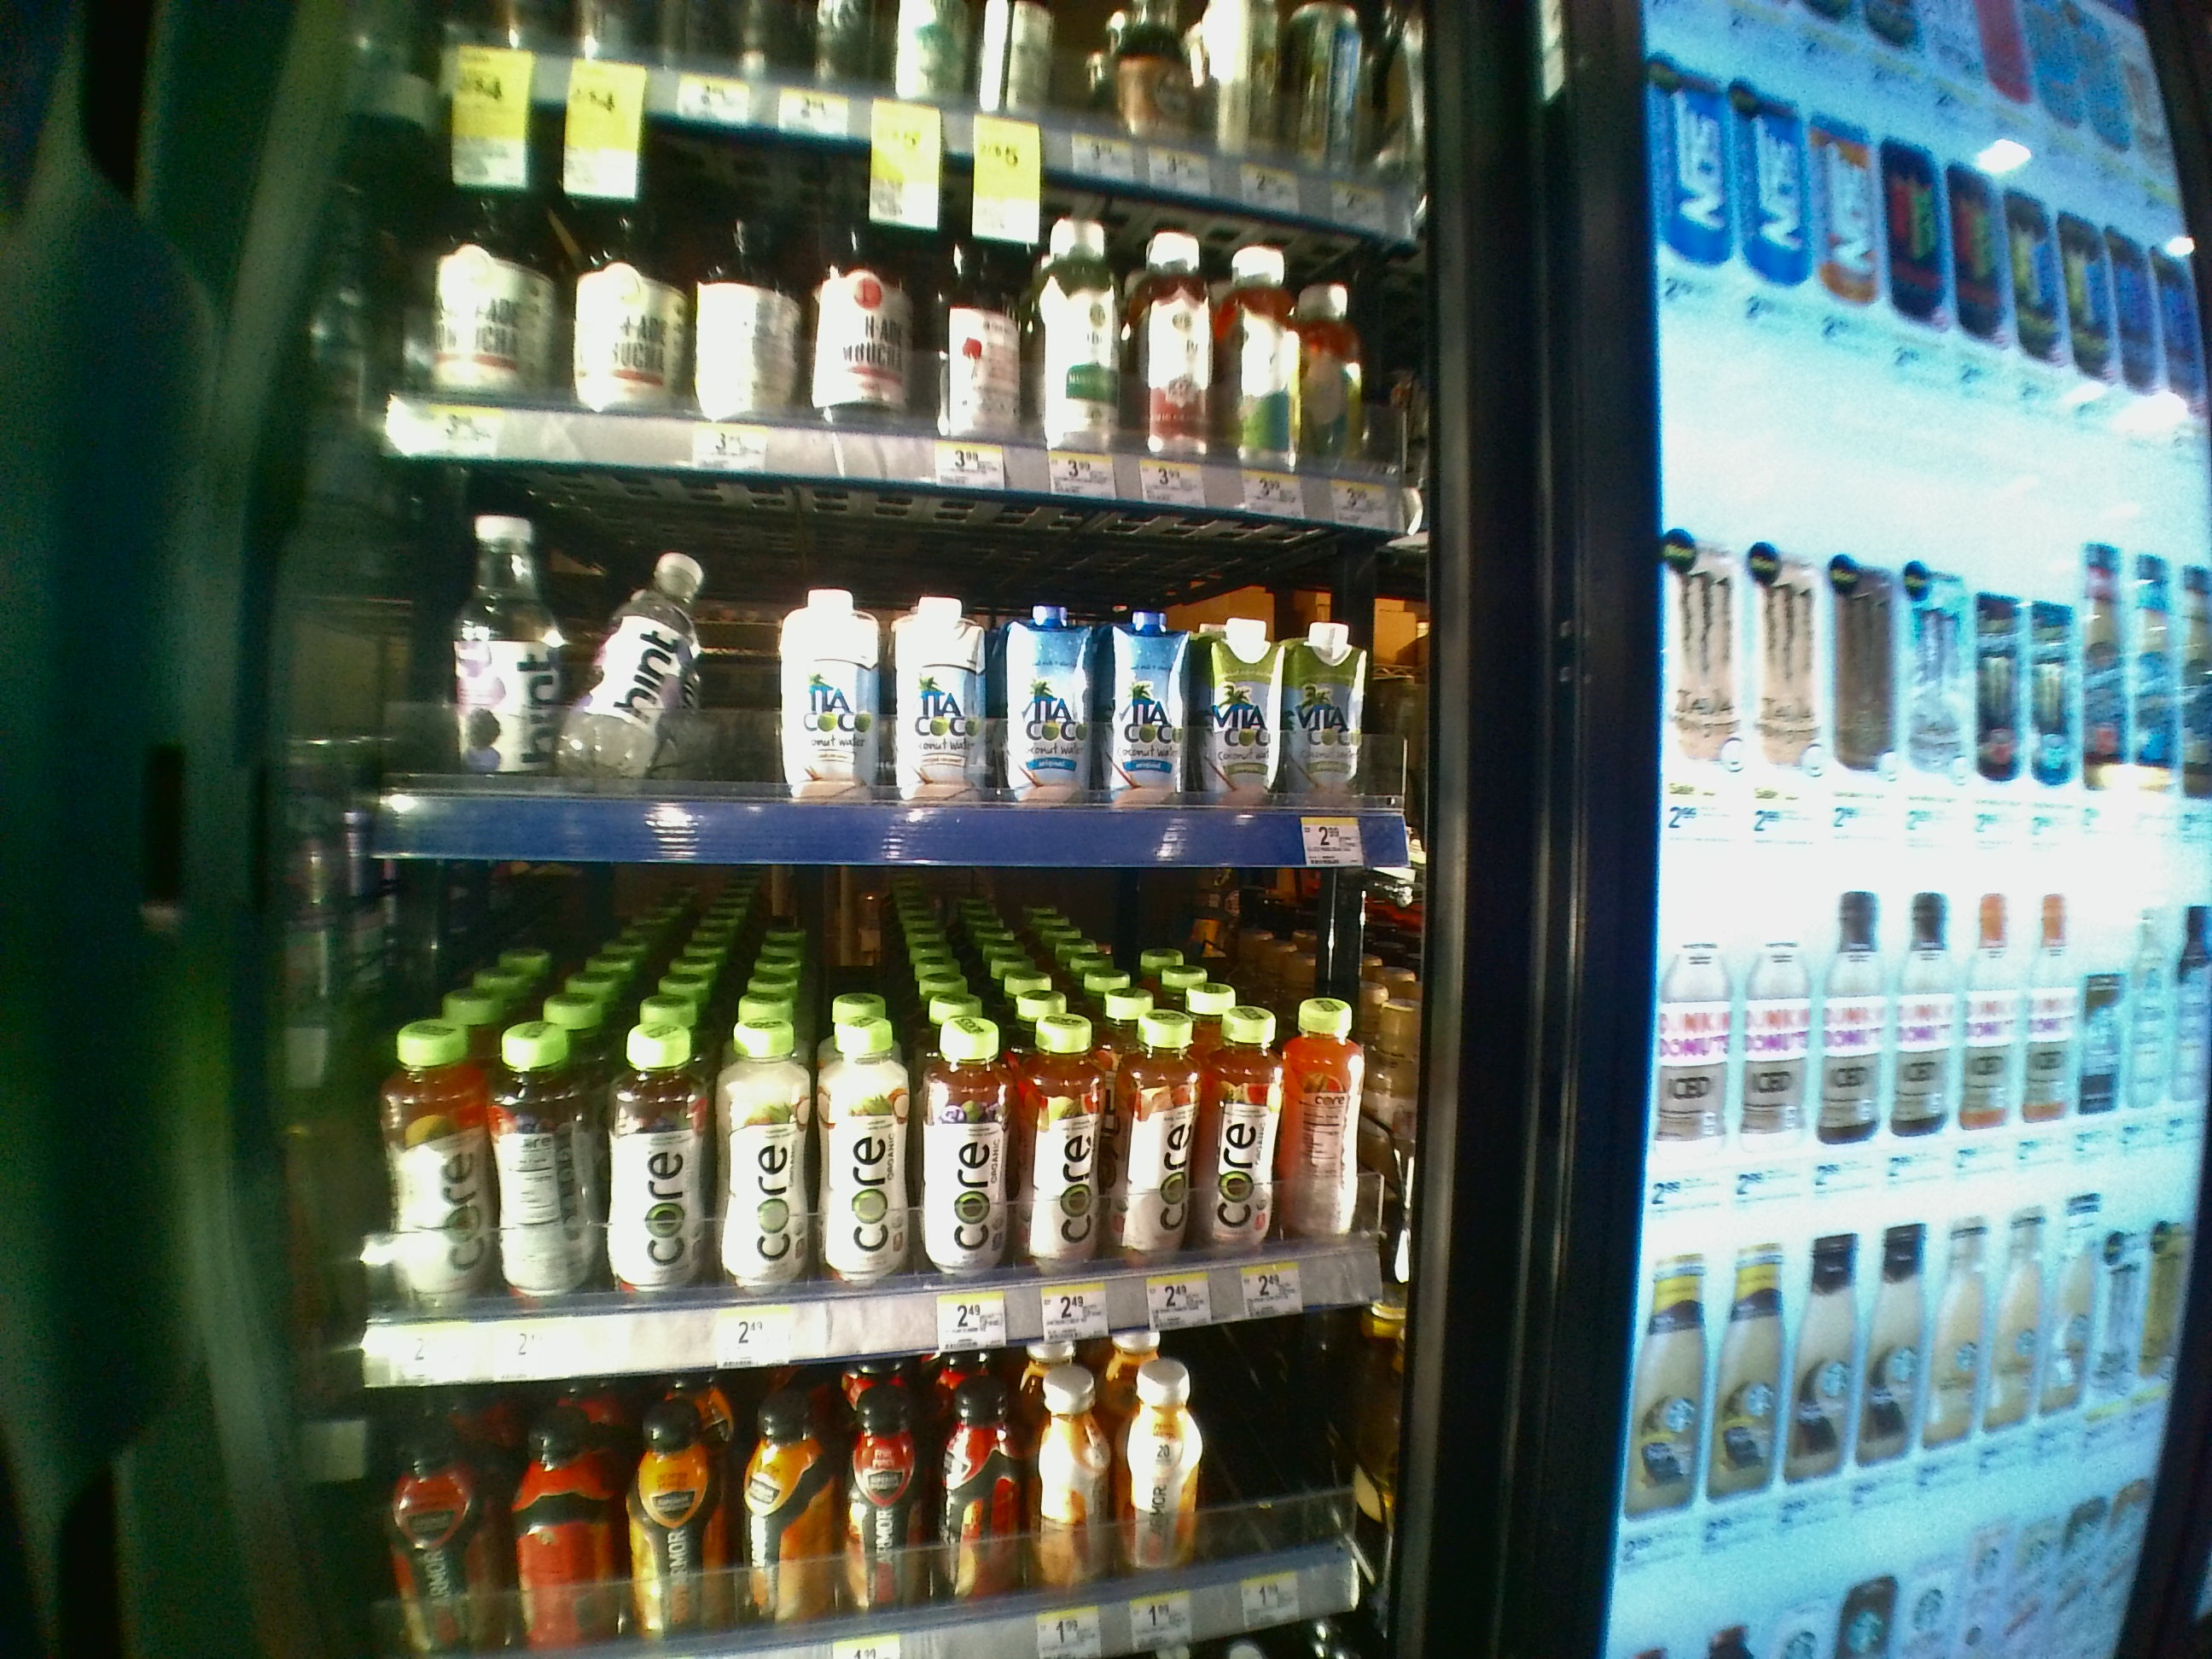shelf: (364, 854, 1430, 1358)
